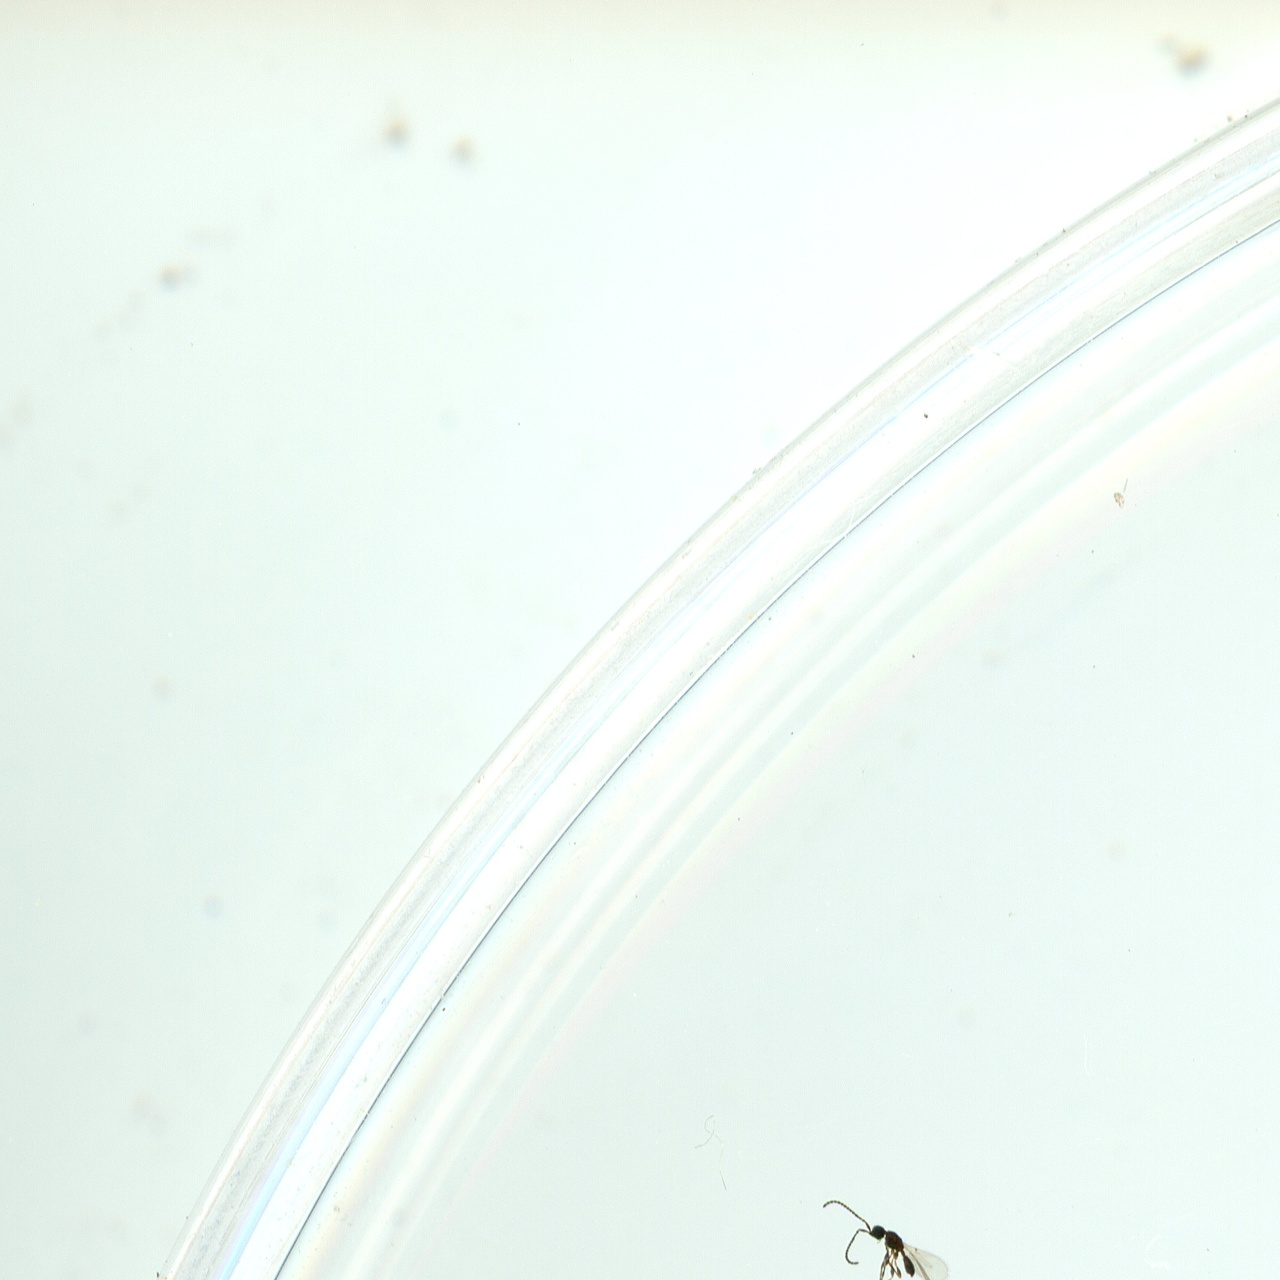arthropod: (805, 1189, 959, 1280)
